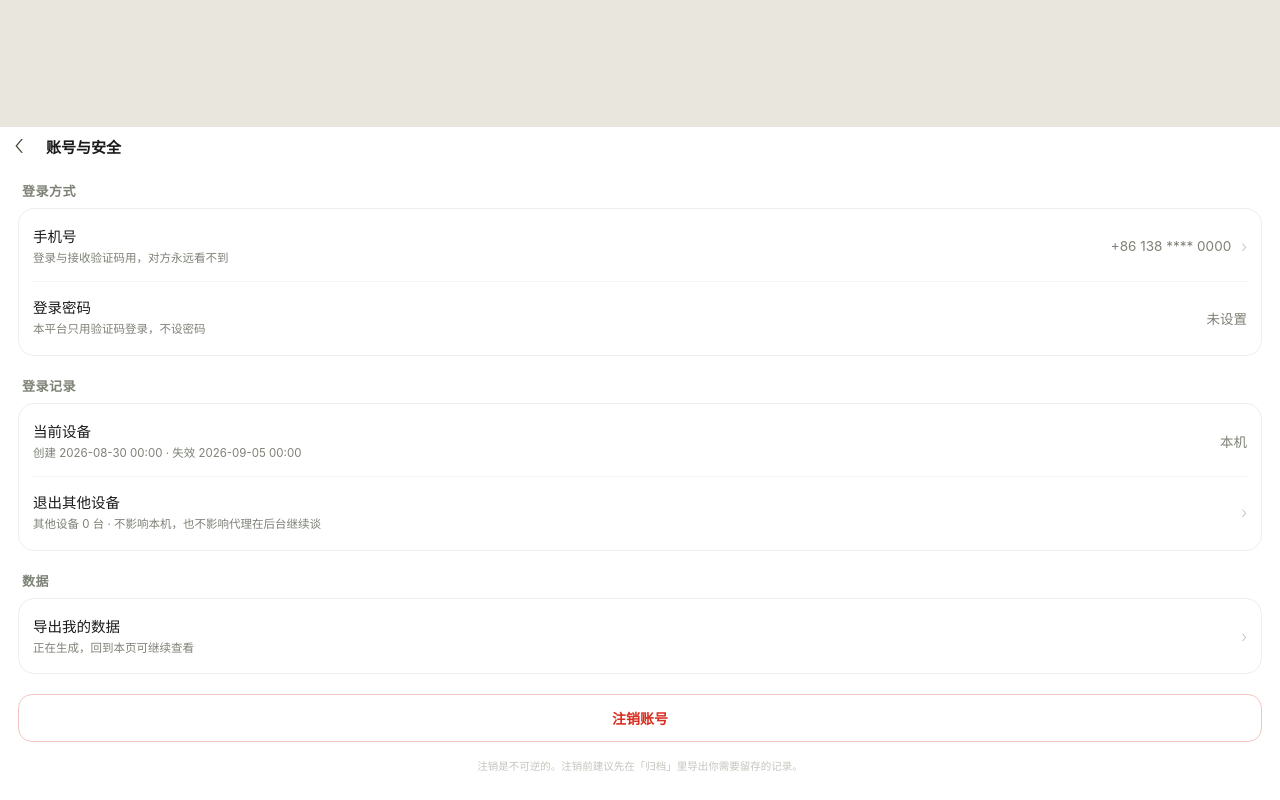
Scenario: 账号安全 · Backend 数据导出与注销 › 进屏被动恢复零弹层；打开抽屉即恢复 + 立即刷新，queued/running 显示生成中
The image size is (1280, 800).
(page scrolled)
Click the button "导出我的数据 正在生成，回到本页可继续查看 ›". click: click(76, 626)
box: [33,601,1247,671]
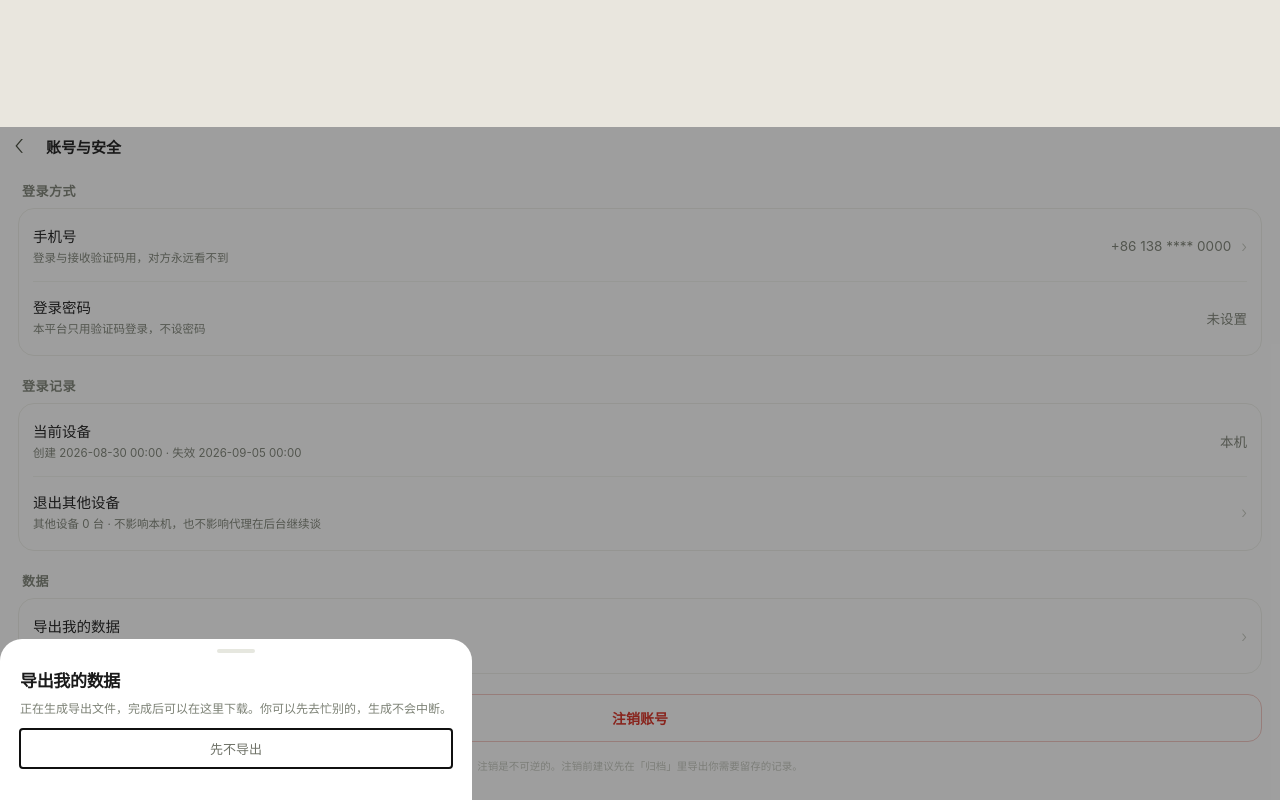
Expected: the text "正在生成，回到本页可继续查看" is shown, [33,641,194,655]
Expected: the text "正在生成导出文件，完成后可以在这里下载。你可以先去忙别的，生成不会中断。" is shown, [20,699,452,719]
